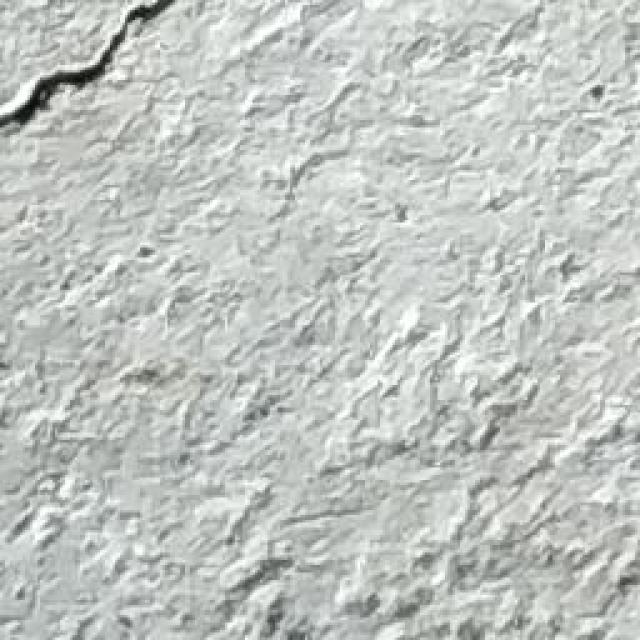Diagonal: (0, 0, 179, 135)
